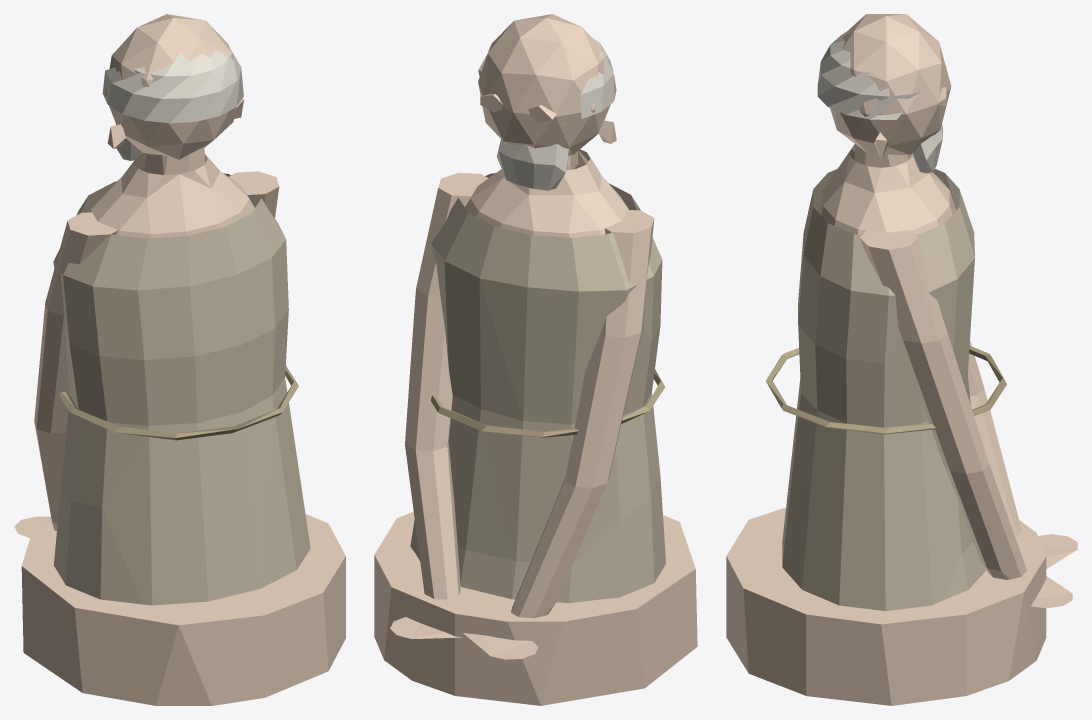
The model's file is 19-NPCs_npc_sentado.glb.
3 views of the same model, side by side, from view 1: azimuth 30°, elevation 25°; view 2: azimuth 150°, elevation 25°; view 3: azimuth 270°, elevation 25° (orthographic).
Parts seen in each view (by area): view 1: SM_Sent_M_Sent_Lino, SM_Sent_M_Sent_Piedra, SM_Sent_M_Sent_Piel, SM_Sent_M_Sent_Pelo, SM_Sent_M_Sent_Cordon; view 2: SM_Sent_M_Sent_Lino, SM_Sent_M_Sent_Piel, SM_Sent_M_Sent_Piedra, SM_Sent_M_Sent_Pelo, SM_Sent_M_Sent_Cordon, SM_Sent_M_Sent_Ojos; view 3: SM_Sent_M_Sent_Lino, SM_Sent_M_Sent_Piel, SM_Sent_M_Sent_Piedra, SM_Sent_M_Sent_Pelo, SM_Sent_M_Sent_Cordon.
Boxes of the visible parts, x1,y1,x2,y2 form: SM_Sent_M_Sent_Lino: (53,173,310,605); SM_Sent_M_Sent_Piedra: (21,514,345,705); SM_Sent_M_Sent_Piel: (14,14,279,537); SM_Sent_M_Sent_Pelo: (102,49,243,160); SM_Sent_M_Sent_Cordon: (59,365,298,440); SM_Sent_M_Sent_Lino: (410,173,665,603); SM_Sent_M_Sent_Piel: (390,14,654,659); SM_Sent_M_Sent_Piedra: (374,512,697,705); SM_Sent_M_Sent_Pelo: (478,37,616,190); SM_Sent_M_Sent_Cordon: (431,369,665,437); SM_Sent_M_Sent_Ojos: (480,93,556,123); SM_Sent_M_Sent_Lino: (782,169,986,610); SM_Sent_M_Sent_Piel: (818,14,1077,608); SM_Sent_M_Sent_Piedra: (726,507,1046,705); SM_Sent_M_Sent_Pelo: (817,29,942,173); SM_Sent_M_Sent_Cordon: (766,346,1006,434).
Bounding box in the file's own units: 0.6321 × 1.36 × 0.7023.
